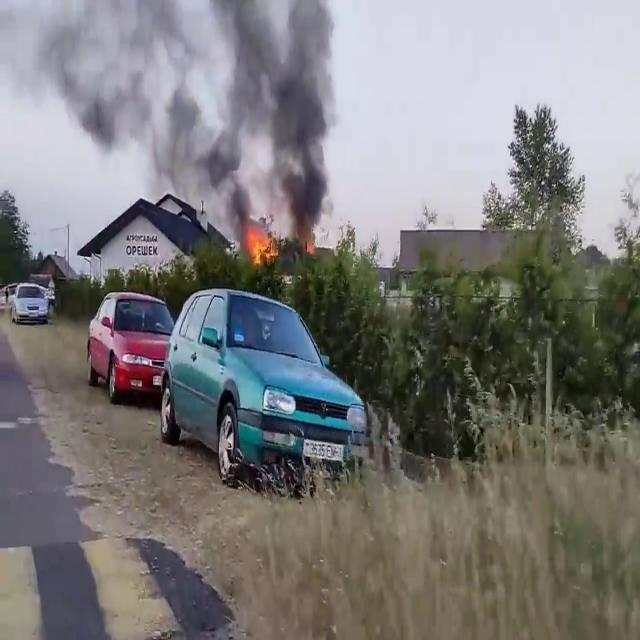Fire: (245, 224, 278, 268)
Smoke: (31, 0, 342, 226)
